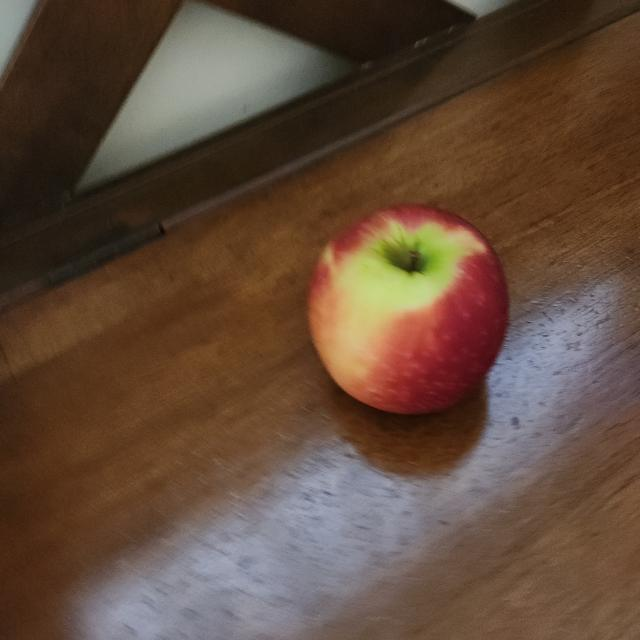apple: (295, 201, 516, 424)
